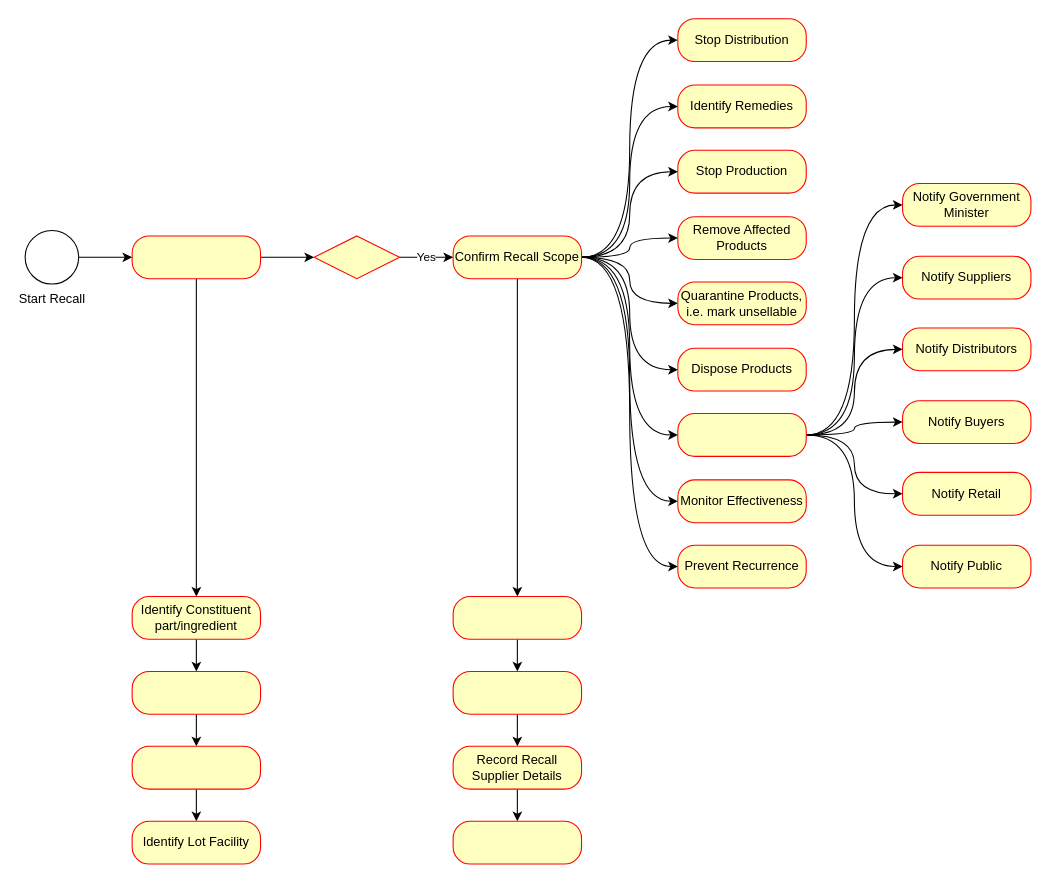
Some shapes in this 1050 by 883 pixel diagram are drawn without their labels. The shapes that lost their labels are listed below. From the top down, each one's centre as x and y in pixels, then its label:
At point (196, 257): "Trace products".
At point (356, 257): "Recall Required?".
At point (741, 434): "Notify 3rd Parties".
At point (517, 617): "Record Recall Incident".
At point (196, 692): "Identify Warehouse".
At point (517, 692): "Record Recall Product Details".
At point (196, 767): "Identify Affected Lots".
At point (517, 842): "Record Recall Effectiveness".
